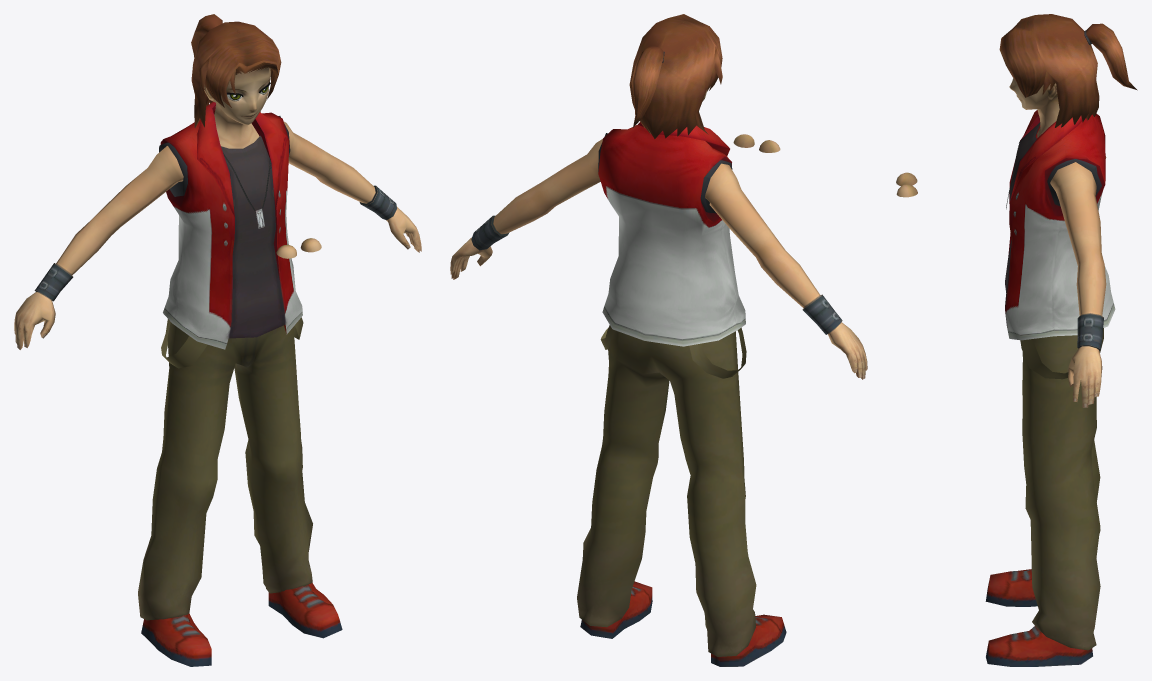
Rendered from Masaru_Costume03.obj.
3 views of the same model, side by side, from view 1: azimuth 30°, elevation 25°; view 2: azimuth 150°, elevation 25°; view 3: azimuth 270°, elevation 25° (orthographic). The views are drawn at different scales.
Visible parts, largest first — view 1: masaru; view 2: masaru; view 3: masaru, Editable_Poly.
Boxes of the visible parts, bbox=[...] form: masaru: bbox=[14, 14, 421, 666]; masaru: bbox=[450, 14, 867, 666]; masaru: bbox=[985, 14, 1137, 666]; Editable_Poly: bbox=[896, 172, 917, 197].
Size of the model in its own units: 126 by 180 by 64.86.
Materials: 2 (2 with a texture image).
